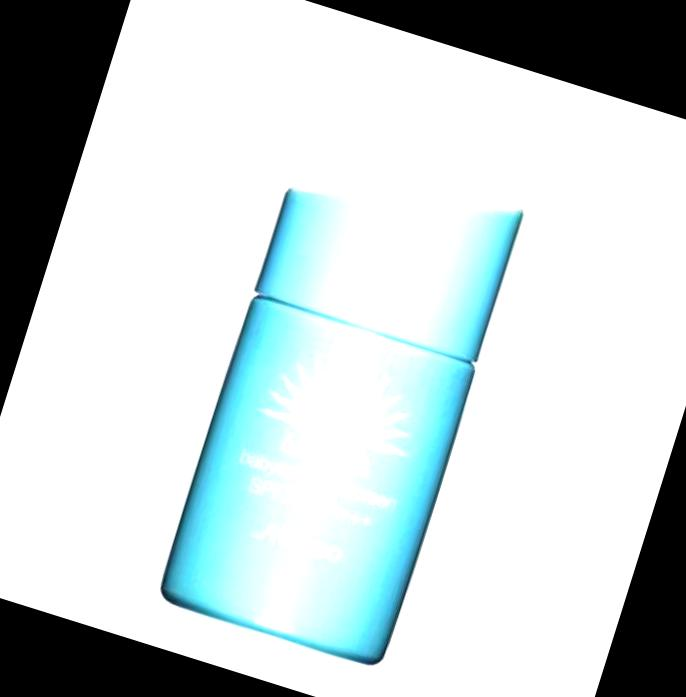cosmetic: (155, 135, 531, 672)
